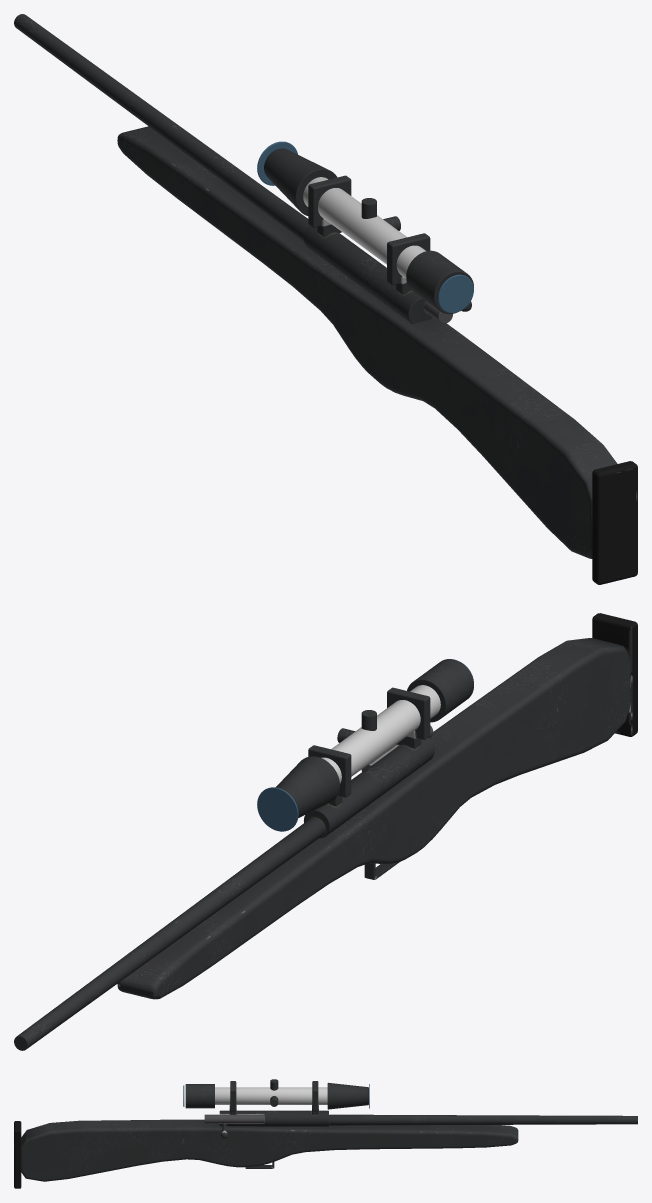
The picture shows the model from 3 angles, top to bottom: view 1: azimuth 30°, elevation 25°; view 2: azimuth 150°, elevation 25°; view 3: azimuth 270°, elevation 25°; orthographic projection. The views are drawn at different scales.
Visible parts, largest first — view 1: Stock, Frame, ScopeTube, ScopeLensR; view 2: Stock, Frame, ScopeTube, ScopeLensF; view 3: Stock, Frame, ScopeTube.
Boxes of the visible parts, left/top/right/bottom form: Stock: left=117, top=126, right=637, bottom=584; Frame: left=14, top=14, right=473, bottom=323; ScopeTube: left=303, top=177, right=425, bottom=278; ScopeLensR: left=438, top=274, right=473, bottom=313; Stock: left=117, top=613, right=637, bottom=999; Frame: left=14, top=659, right=473, bottom=1050; ScopeTube: left=321, top=685, right=440, bottom=783; ScopeLensF: left=257, top=787, right=298, bottom=831; Stock: left=14, top=1119, right=518, bottom=1188; Frame: left=185, top=1079, right=637, bottom=1168; ScopeTube: left=215, top=1087, right=327, bottom=1104.
Size of the model in its own units: 0.0919 by 0.2292 by 1.25.
